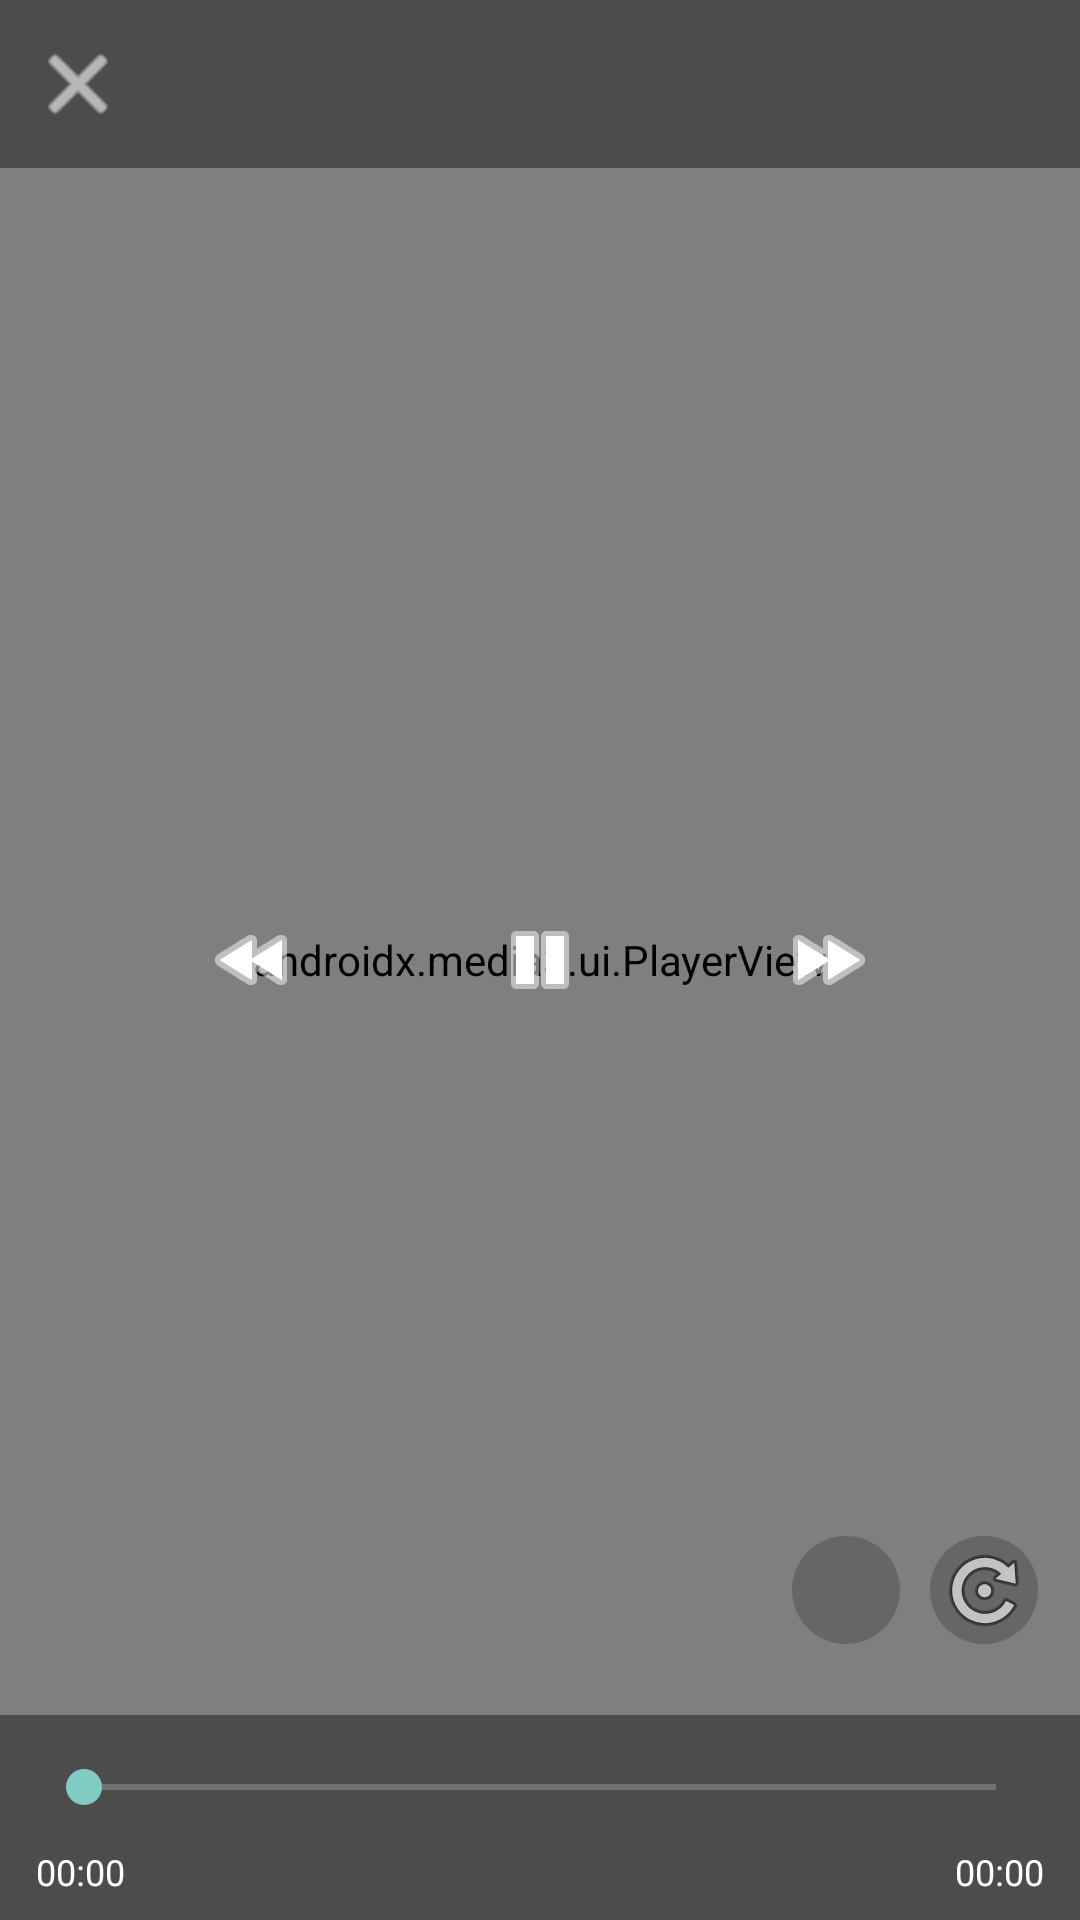

Locate icon controls on the screen. Image size 1080w x 1920h, boxes as (x1, y1, x2, y2).
关闭: (48, 54, 108, 114)
旋转屏幕: (930, 1536, 1038, 1644)
